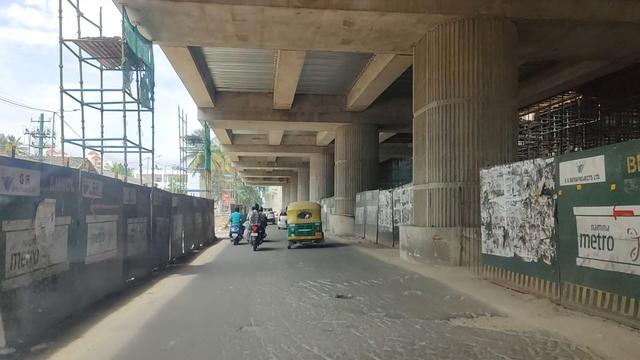LMV: (283, 197, 324, 261), (243, 199, 265, 260)
RoadDamages: (234, 300, 595, 360), (242, 263, 436, 306)
